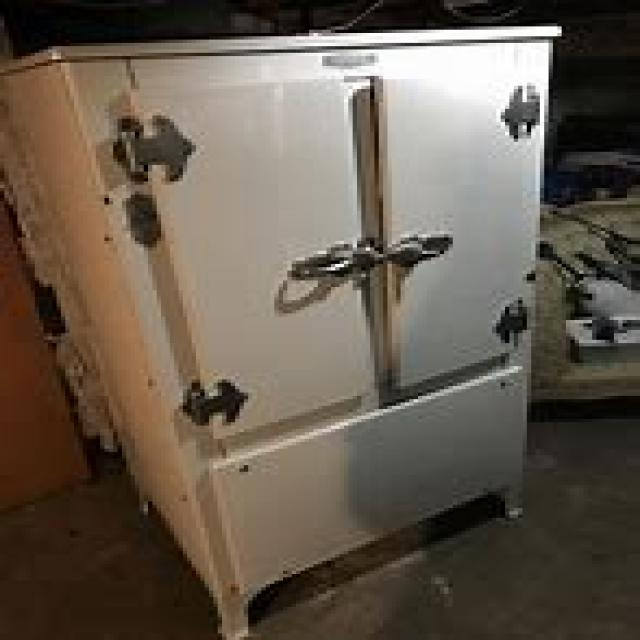fridge: (0, 23, 557, 636)
